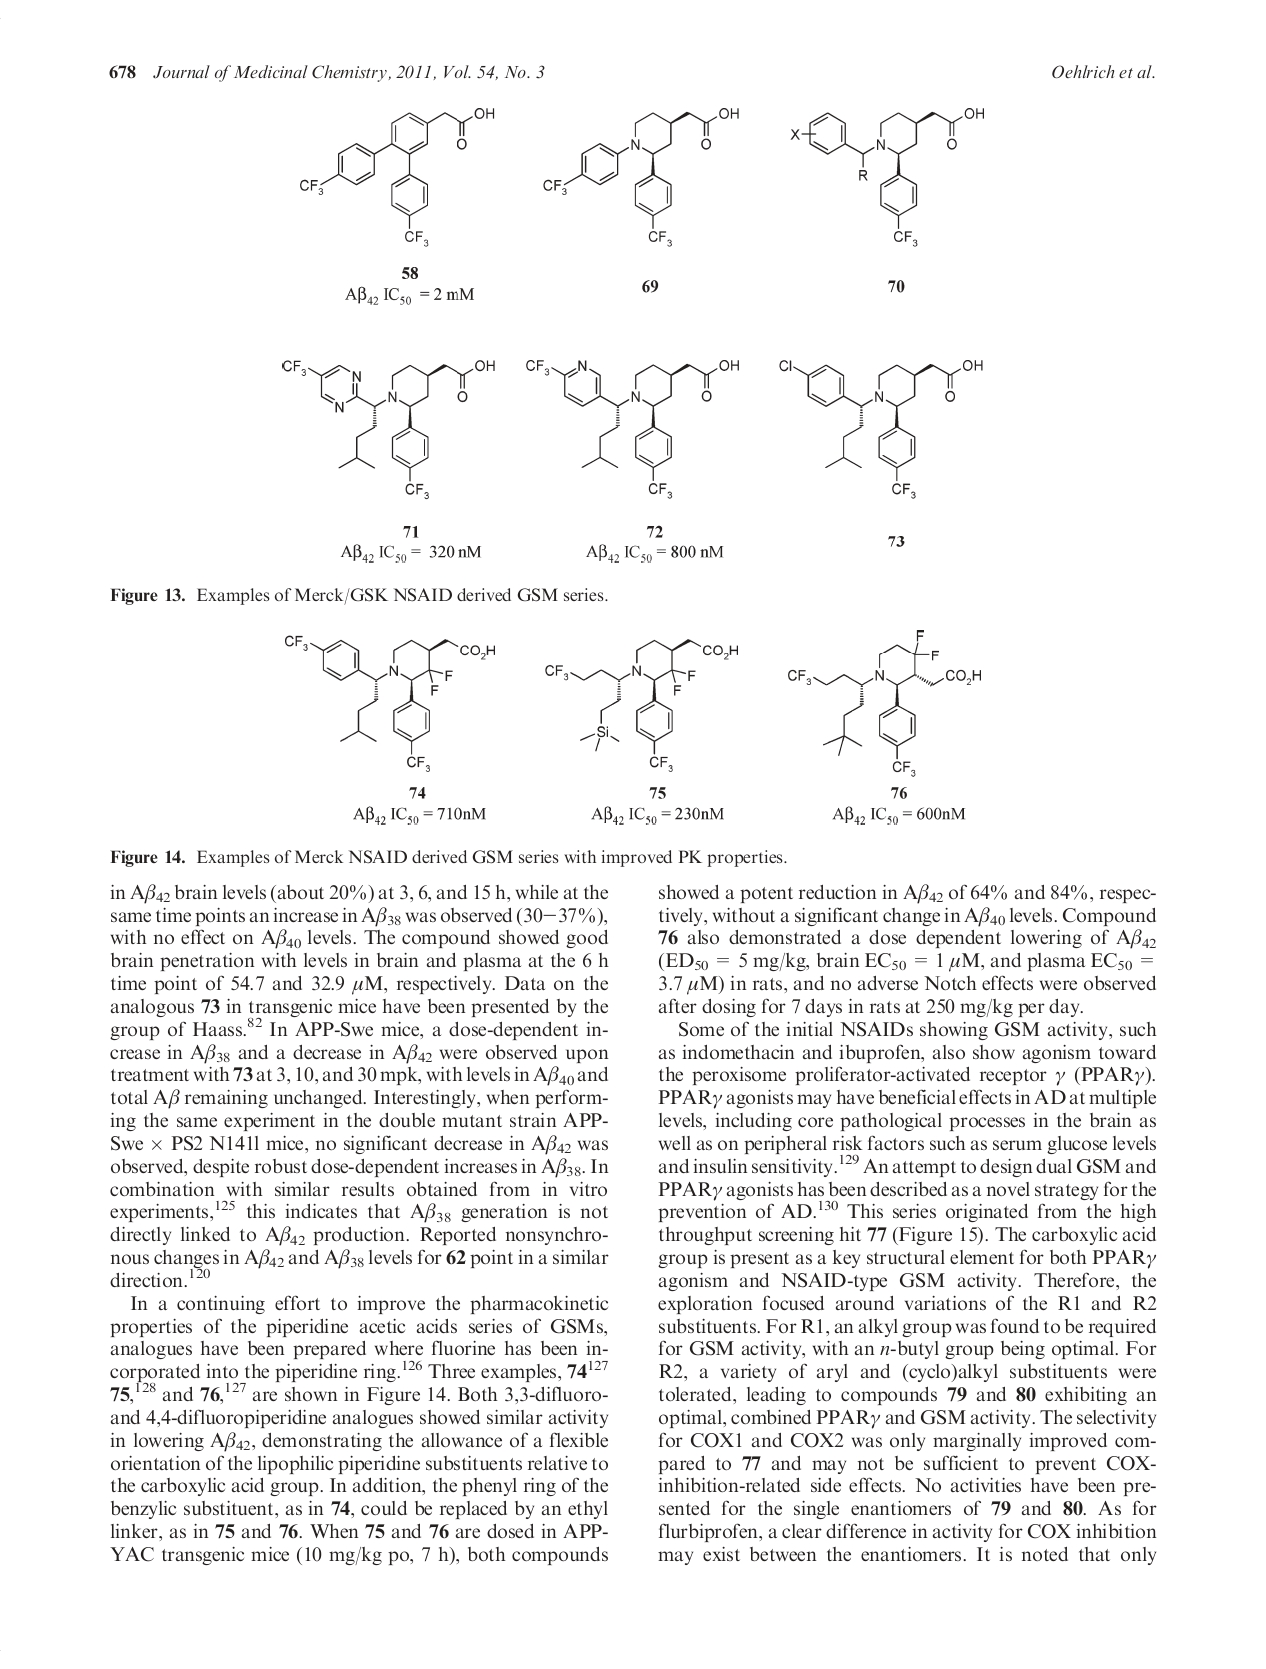exist_molecular: (521, 348, 745, 503), (770, 350, 988, 501), (279, 354, 495, 504), (283, 625, 497, 775), (782, 98, 989, 249), (535, 104, 746, 249), (295, 100, 501, 247), (785, 630, 987, 777), (541, 634, 741, 777)
